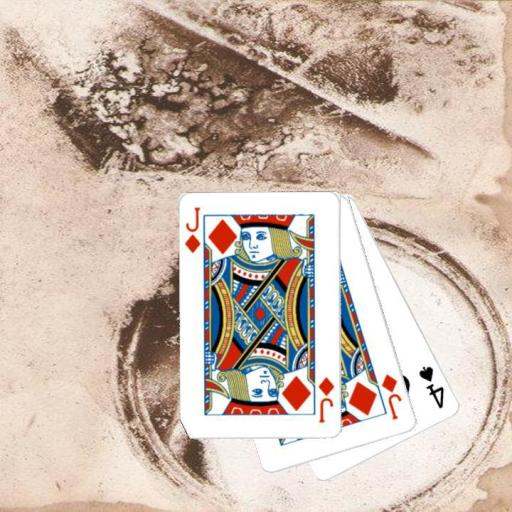4S: (416, 363, 446, 410)
JD: (378, 371, 404, 422), (182, 205, 203, 255), (316, 374, 336, 425)
